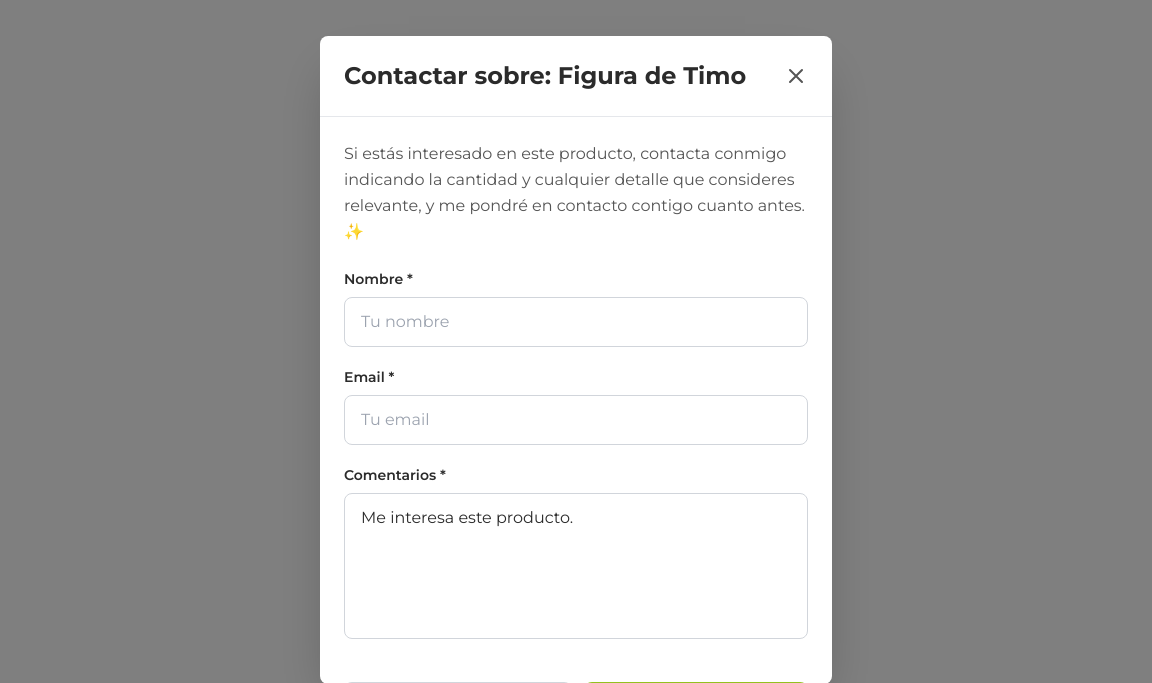
Test: ContactModal › Validation › should show error when comments are empty
The width and height of the screenshot is (1152, 683).
In the field labelled "Nombre *": (576, 322) [344,297,808,347], type "Juan"
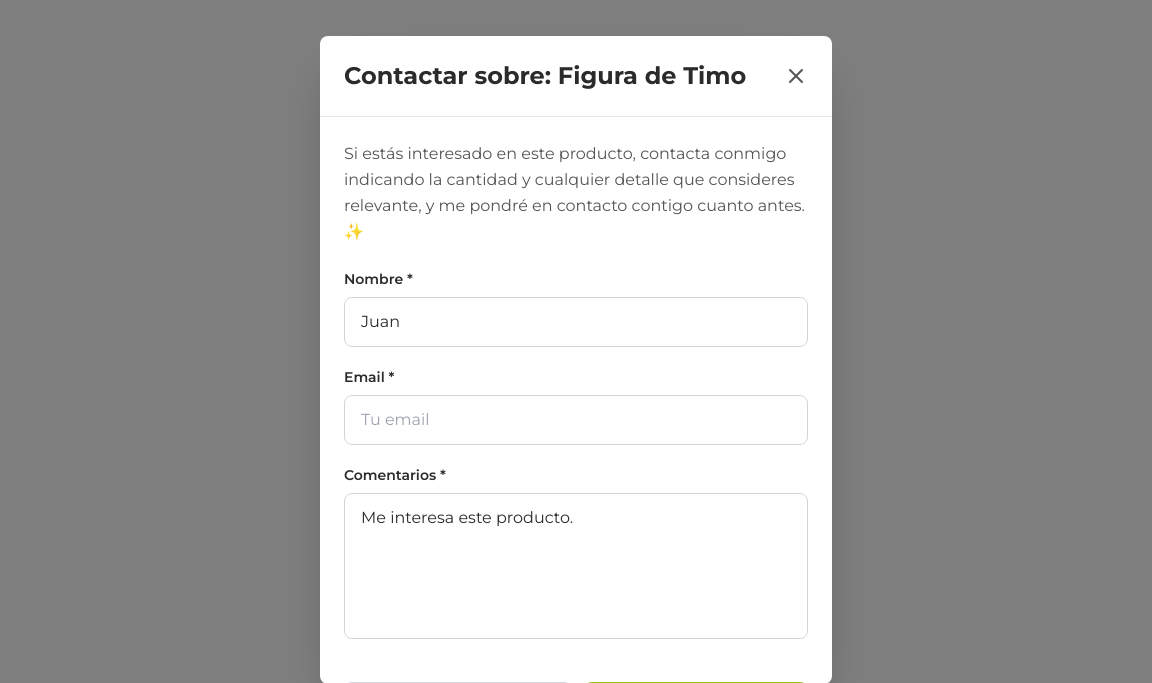
In the field labelled "Email *": (576, 420) [344,395,808,445], type "juan@example.com"
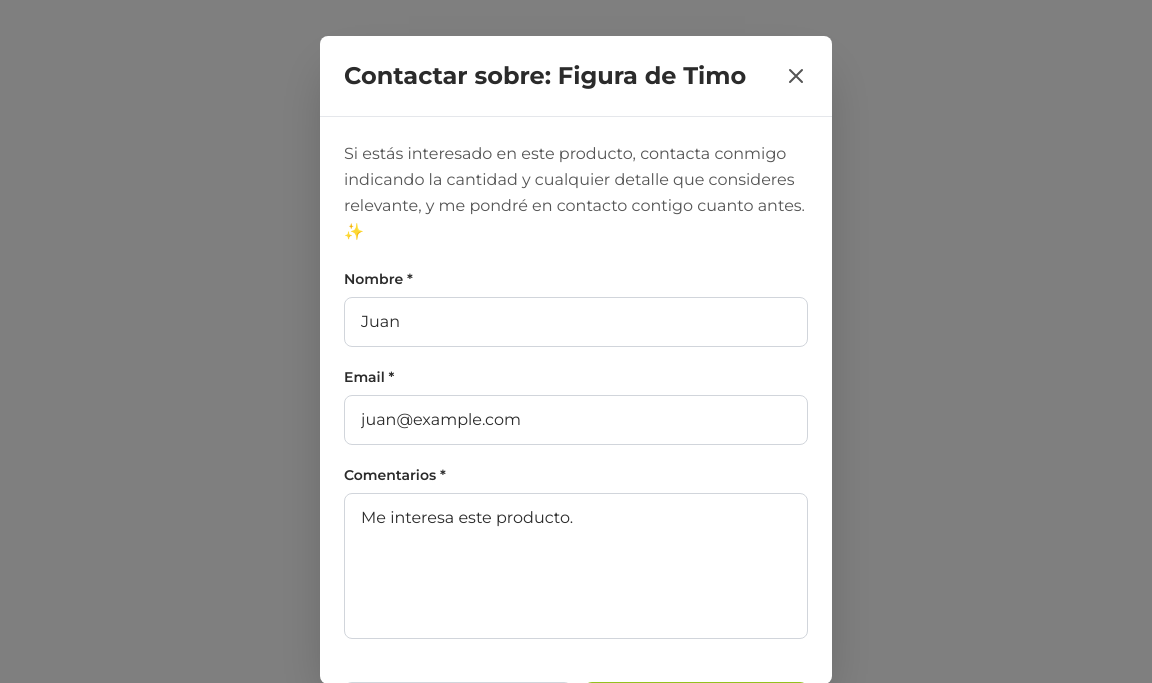
Clear the text box labelled "Comentarios *": (576, 566) [344,493,808,639]
(page scrolled)
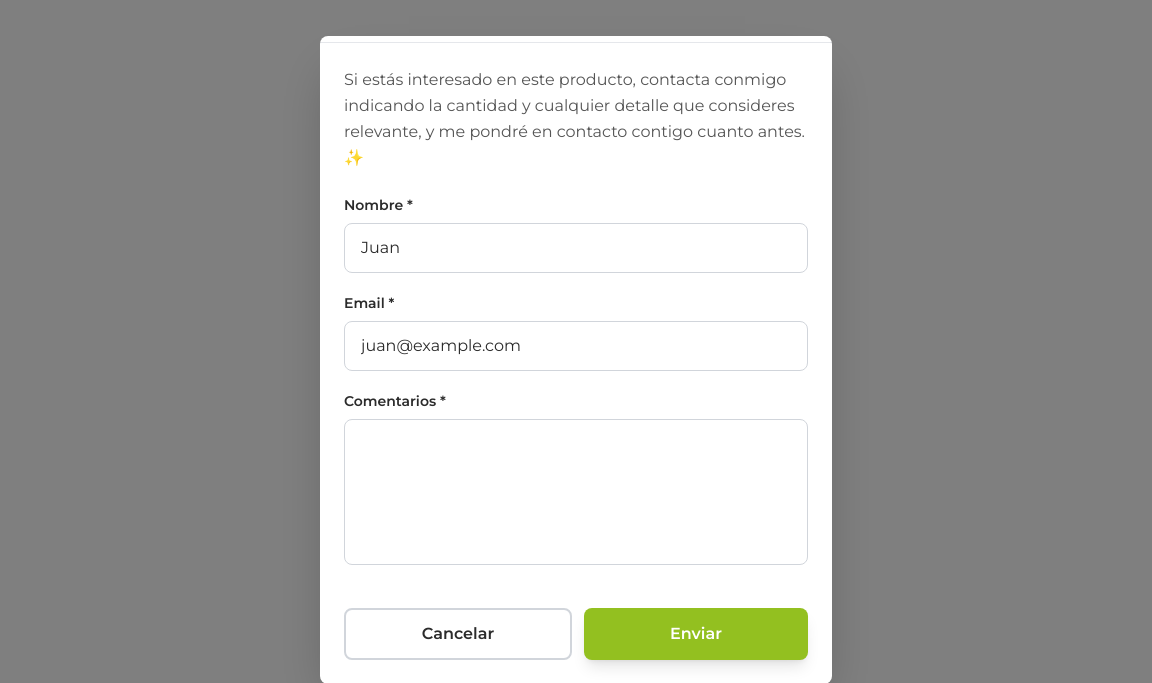
Click the button "Enviar": (696, 634) [584,608,808,660]
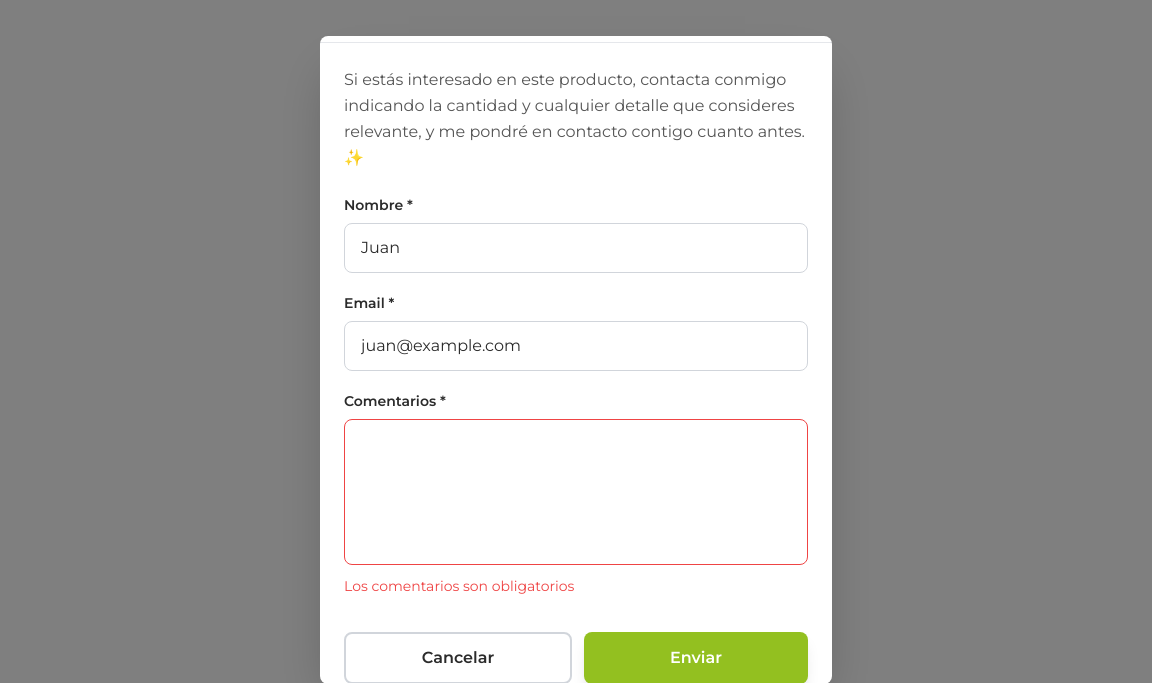
Now the text "Los comentarios son obligatorios" is shown, box [344,577,574,595]
